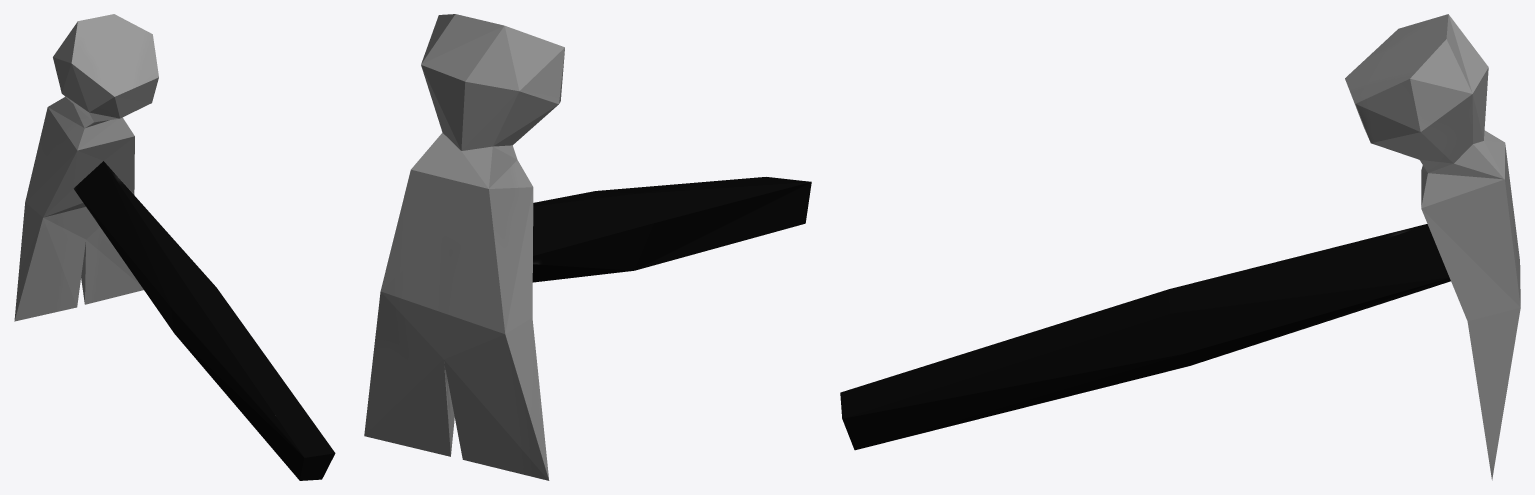
The model's file is hammer.dae.
3 renders of one model, left to right at view 1: azimuth 30°, elevation 25°; view 2: azimuth 150°, elevation 25°; view 3: azimuth 270°, elevation 25°, orthographic. The views are drawn at different scales.
Parts seen in each view (by area): view 1: Claw Hammer; view 2: Claw Hammer; view 3: Claw Hammer.
Boxes of the visible parts, <box> form: Claw Hammer: <box>14,14,335,480</box>; Claw Hammer: <box>364,14,811,480</box>; Claw Hammer: <box>840,14,1520,480</box>.
Size of the model in its own units: 0.1486 by 0.487 by 0.3304.
1 material, 1 textured.
